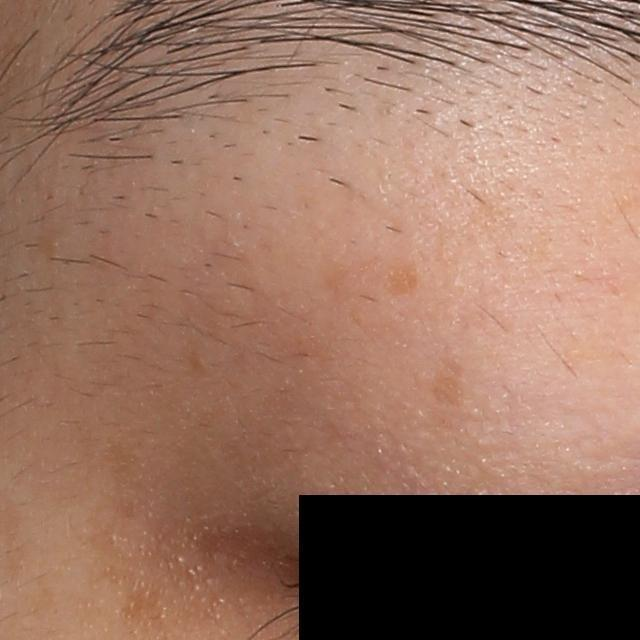melasma: (112, 581, 173, 629), (431, 358, 469, 410), (381, 257, 425, 300)
